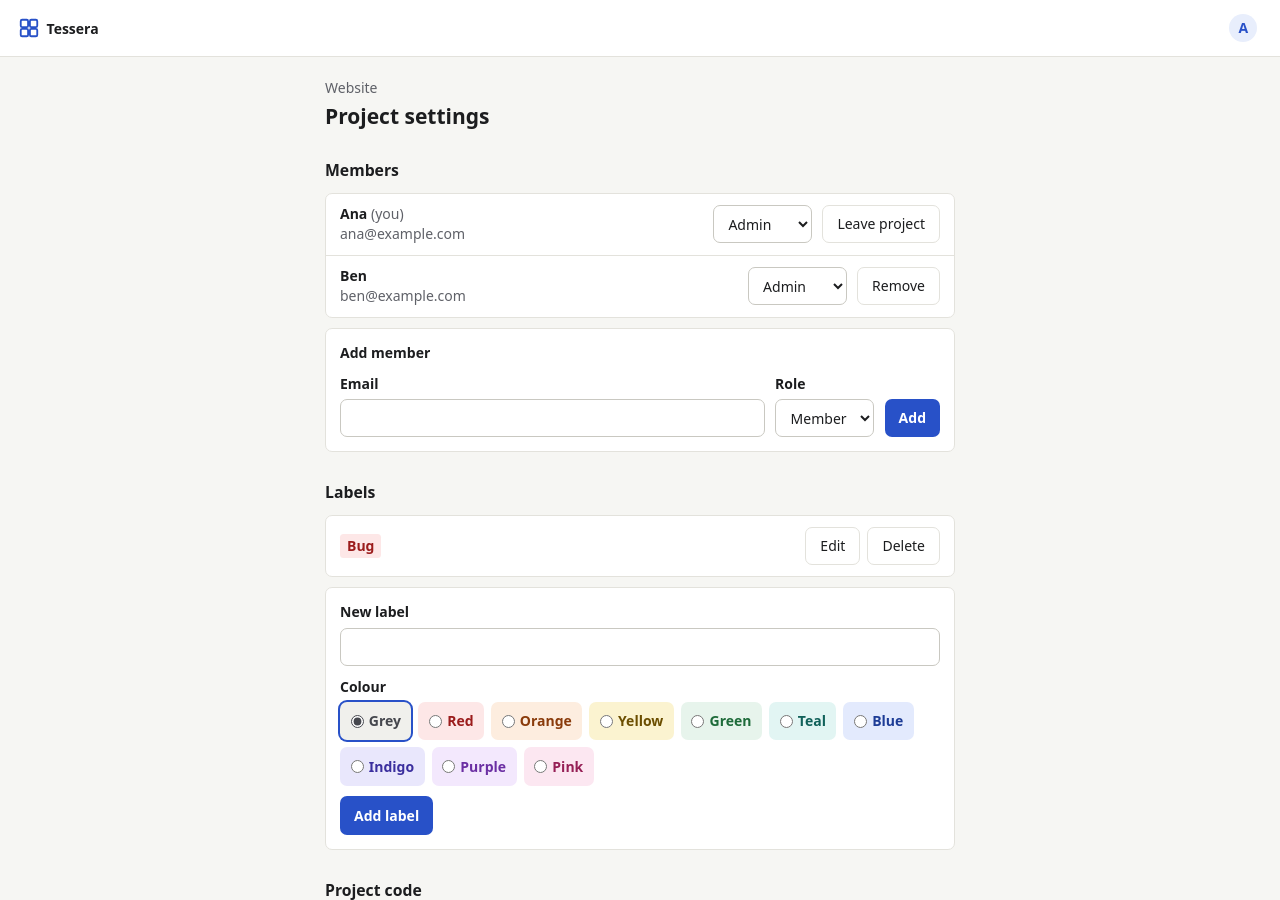
Project settings: members › shows the reason when the API refuses a change
Step 1. Select "Member" in the dropdown named "Role for Ben" → (797, 286), box [748, 267, 847, 305]
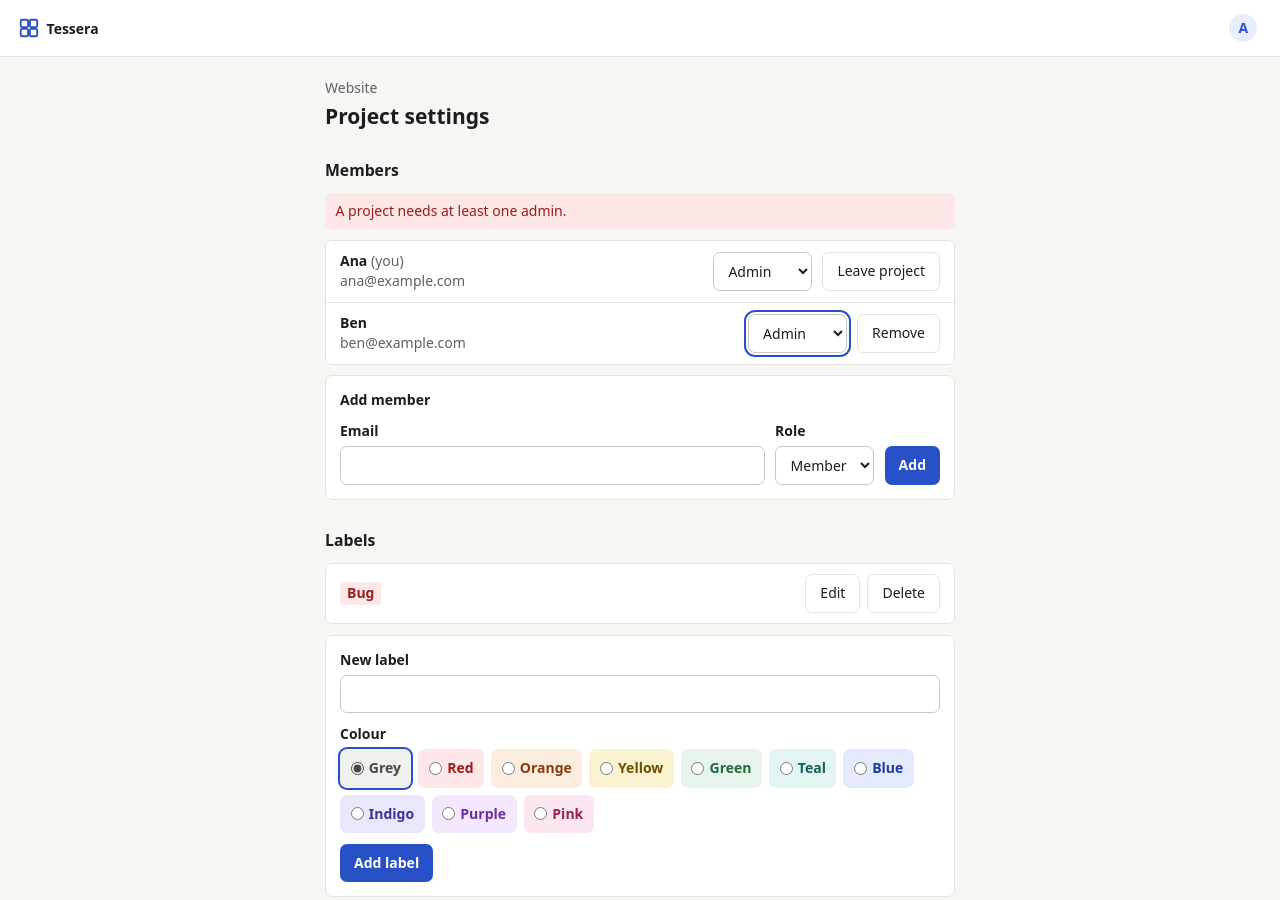
Check: the message reads "A project needs at least one admin.", box [336, 201, 566, 220]
